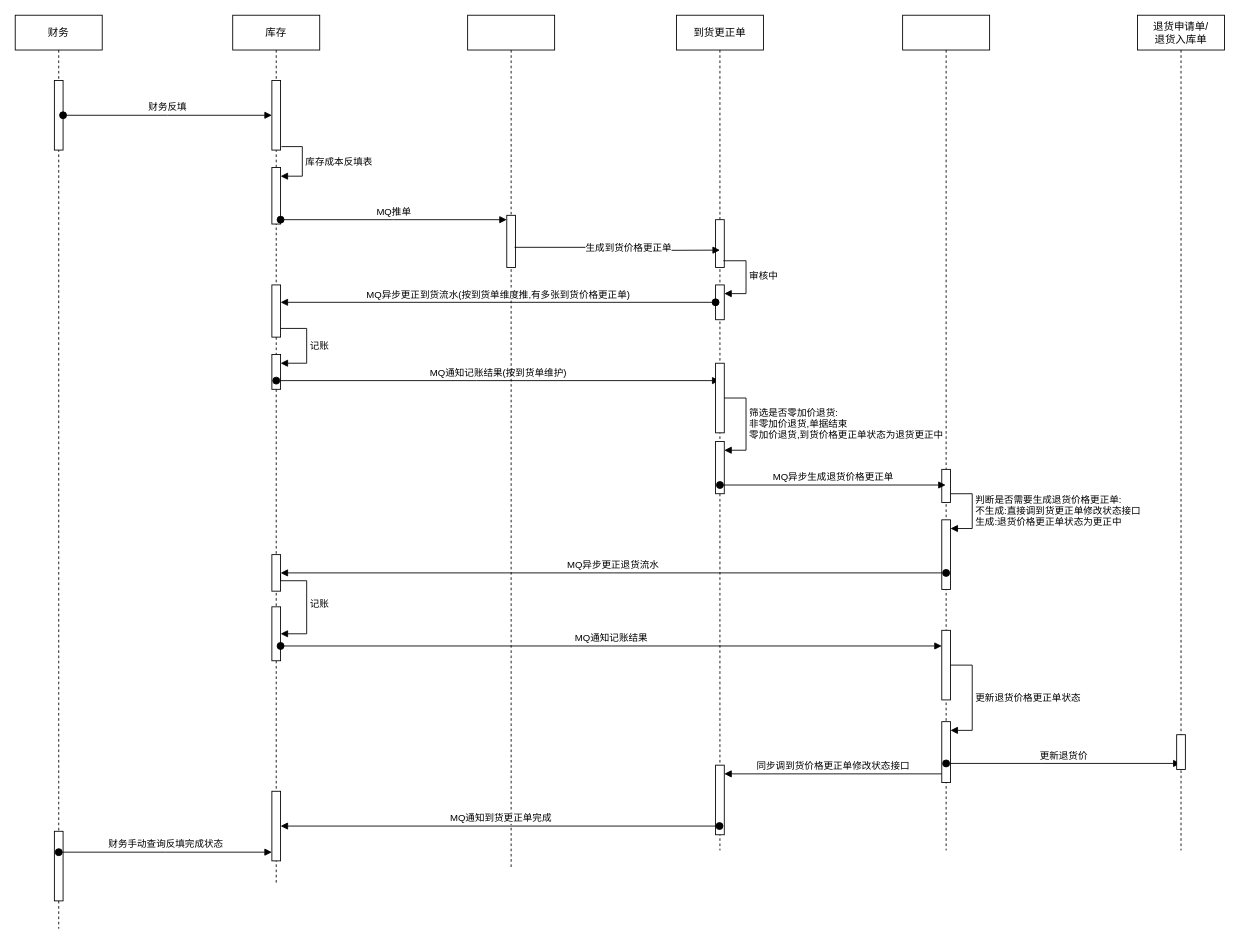
Image size: 1240x944. Some labels were removed from this diagram. The shapes that lost their labels are listed below. From the top down, each one's box as (x1, y1, x2, y2) in pixels, then its label:
(467, 14, 555, 868): 到货单
(902, 14, 990, 850): 退货价格更正单
